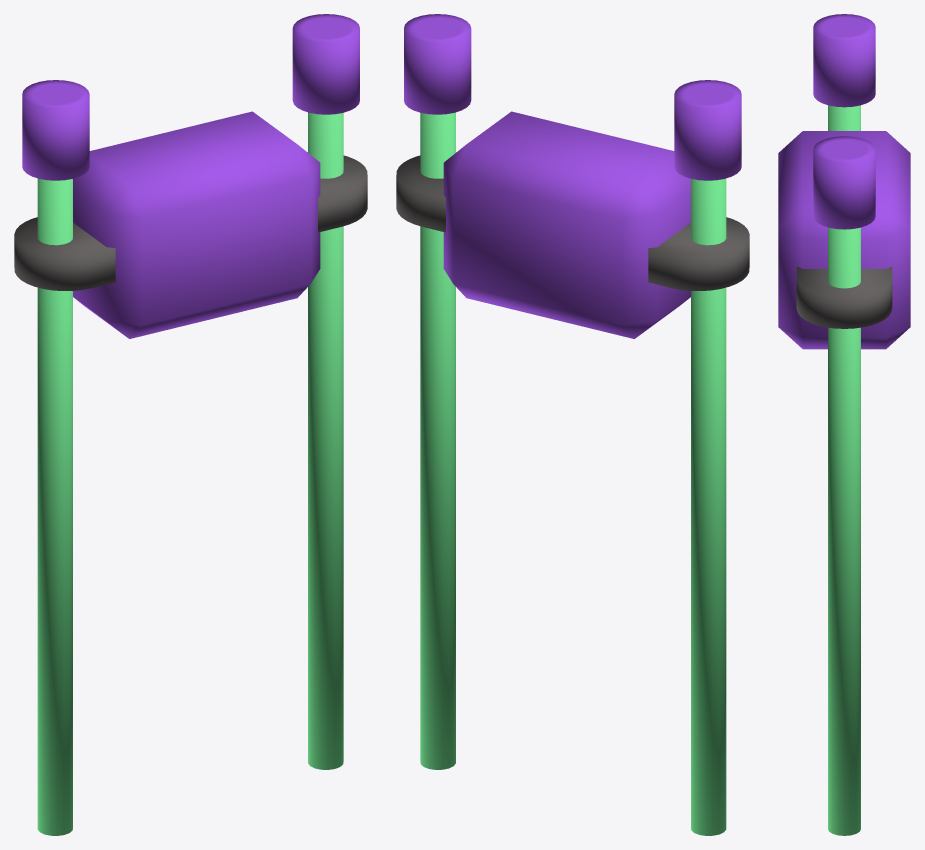
Rendered from Obstacle 24 V4.fbx.
3 renders of one model, left to right at view 1: azimuth 30°, elevation 25°; view 2: azimuth 150°, elevation 25°; view 3: azimuth 270°, elevation 25°, orthographic. The views are drawn at different scales.
Visible parts, largest first — view 1: O24 Part 2, O24 Part 1; view 2: O24 Part 2, O24 Part 1; view 3: O24 Part 2, O24 Part 1.
Boxes of the visible parts, bbox=[...] form: O24 Part 2: bbox=[22, 14, 359, 835]; O24 Part 1: bbox=[14, 111, 367, 338]; O24 Part 2: bbox=[404, 14, 741, 835]; O24 Part 1: bbox=[396, 111, 749, 338]; O24 Part 2: bbox=[813, 14, 875, 835]; O24 Part 1: bbox=[778, 131, 910, 349].
Size of the model in its own units: 146 by 302 by 53.16.
Materials: 1 (1 with a texture image).
